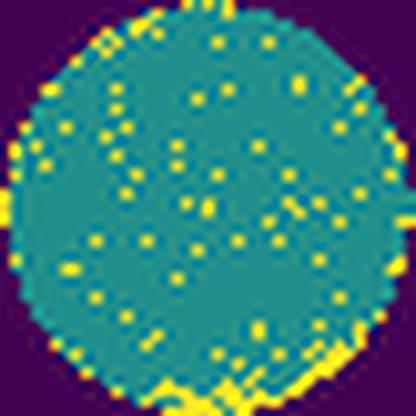Edge-Loc: (140, 314, 381, 416)
